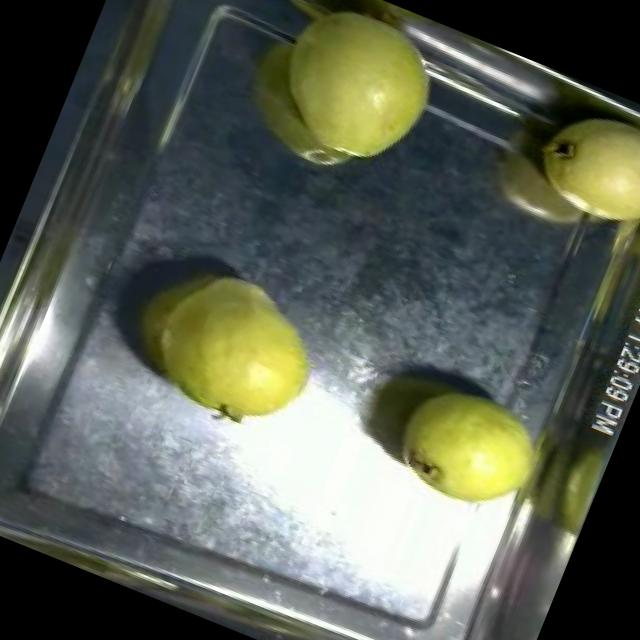Fruit: (108, 238, 346, 452), (247, 0, 462, 191), (370, 358, 558, 536), (510, 78, 640, 260)
